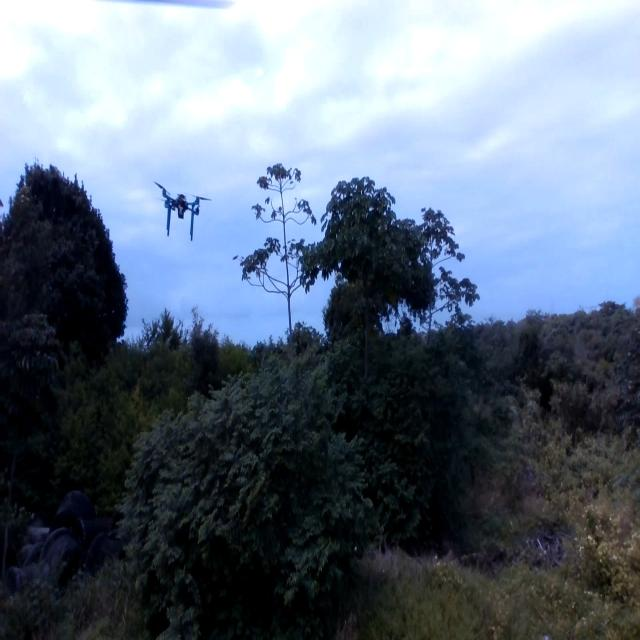-uav-: (151, 173, 216, 246)
